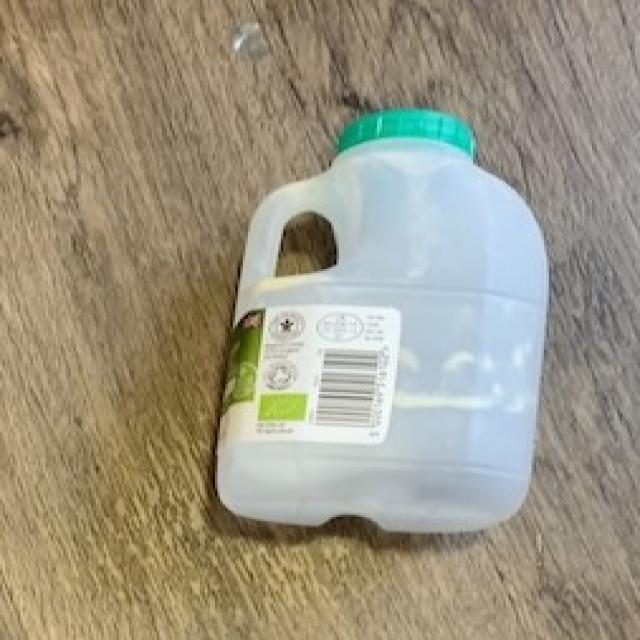HDPE Plastic: (210, 105, 554, 540)
